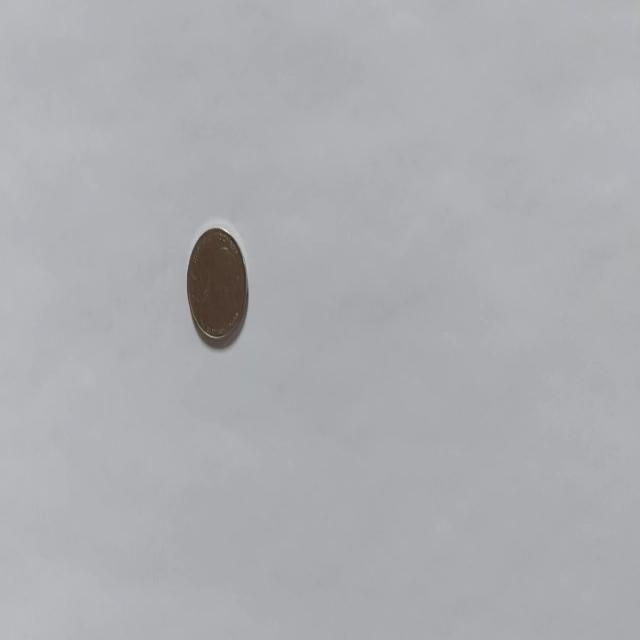seribu rupiah koin: (185, 223, 249, 346)
